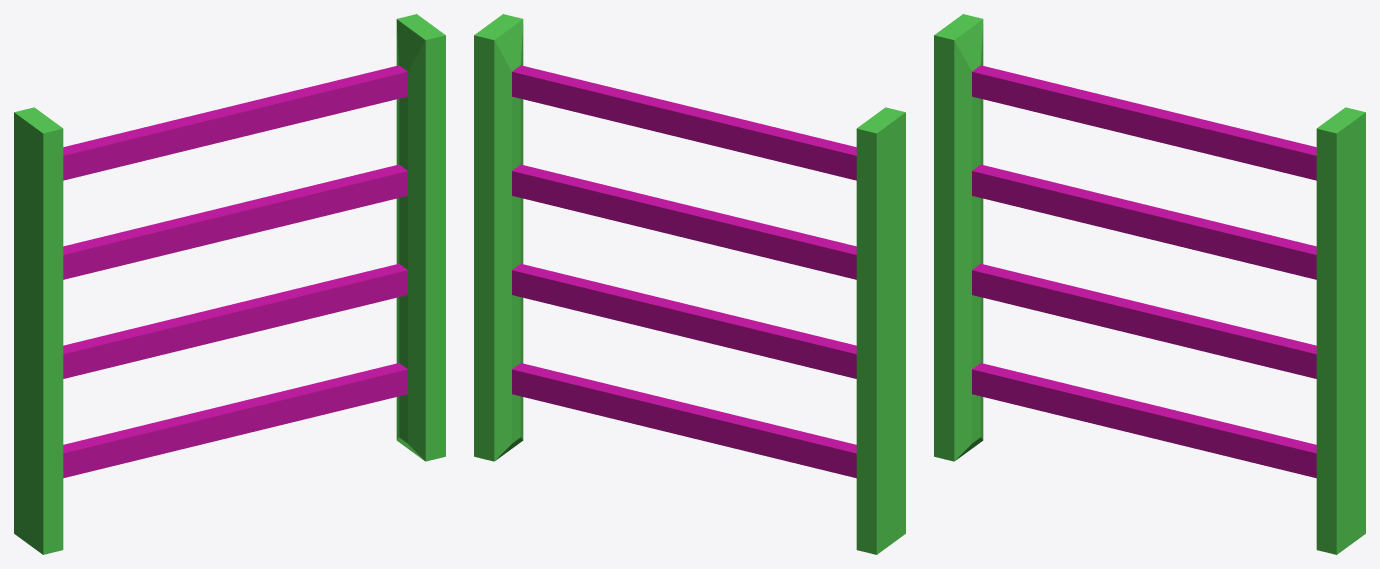
Rendered from barrierHigh.fbx.
3 views of the same model, side by side, from view 1: azimuth 30°, elevation 25°; view 2: azimuth 150°, elevation 25°; view 3: azimuth 330°, elevation 25° (orthographic).
Parts seen in each view (by area): view 1: wall256.003; view 2: wall256.003; view 3: wall256.003.
Boxes of the visible parts, <box> form: wall256.003: <box>14,14,445,554</box>; wall256.003: <box>474,14,905,554</box>; wall256.003: <box>934,14,1365,554</box>.
Bounding box in the file's own units: 256 × 256 × 32.
